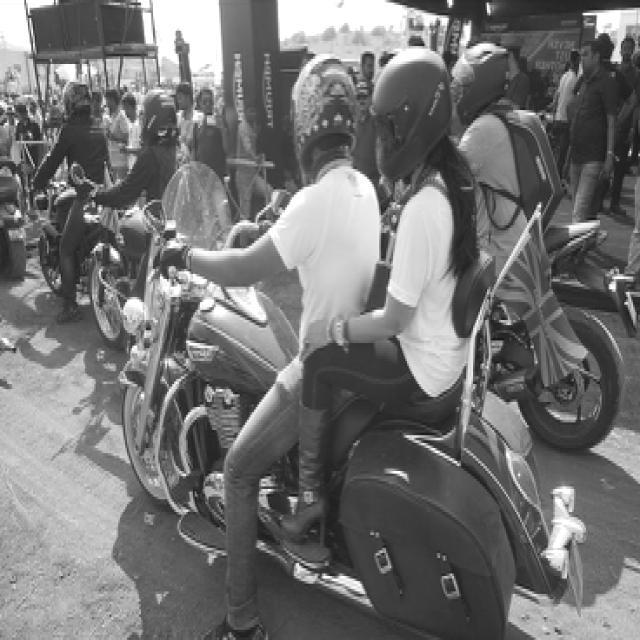Helmet: (286, 54, 358, 176), (139, 90, 178, 146)
